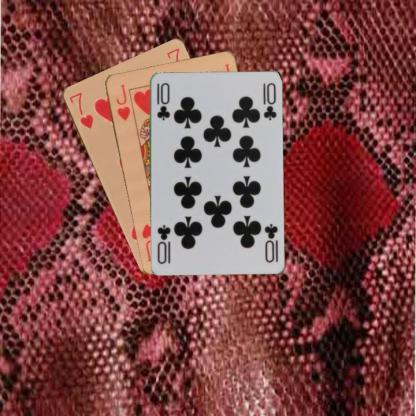10c: (262, 221, 280, 264), (154, 80, 172, 122)
7h: (66, 90, 94, 130)
Jh: (113, 82, 131, 122)
